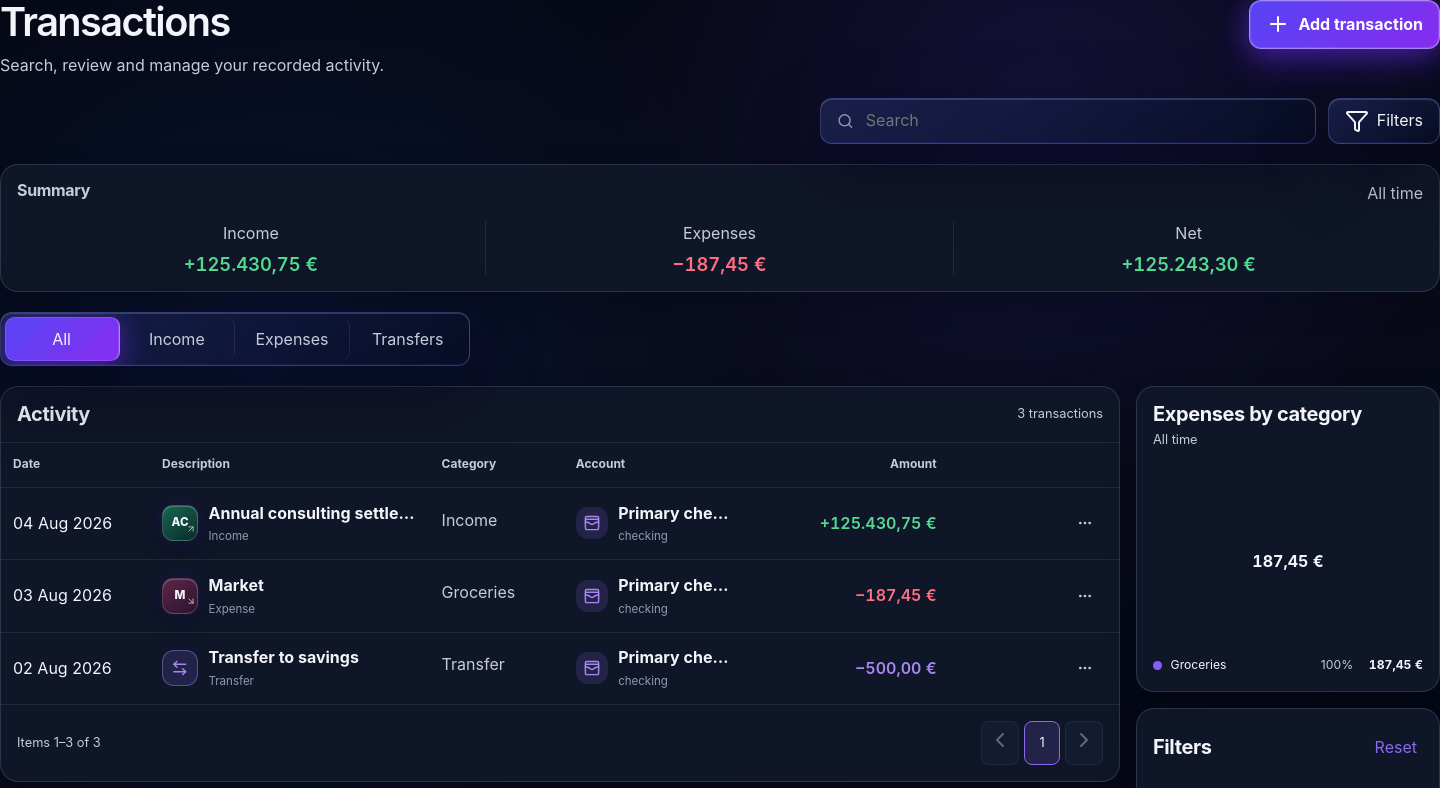
Test: TransactionsPage › applies a requested account scope and Reset returns to all accounts
The image size is (1440, 788).
Expected: the text "Other purchase" is not shown
Click the button "Reset": click(1396, 747) left=1369, top=725, right=1423, bottom=769
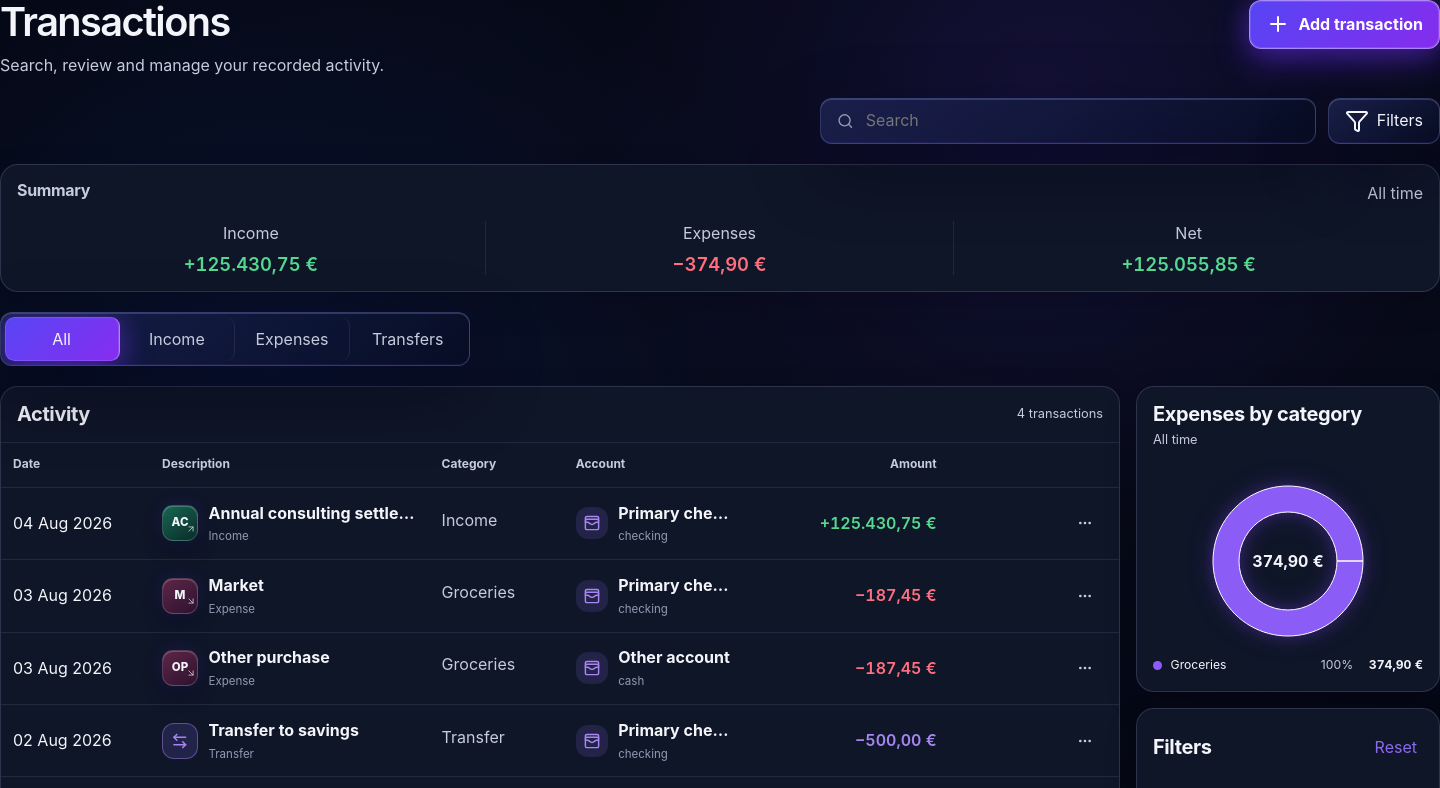
Expected: the text "Other purchase" is shown 2 times
